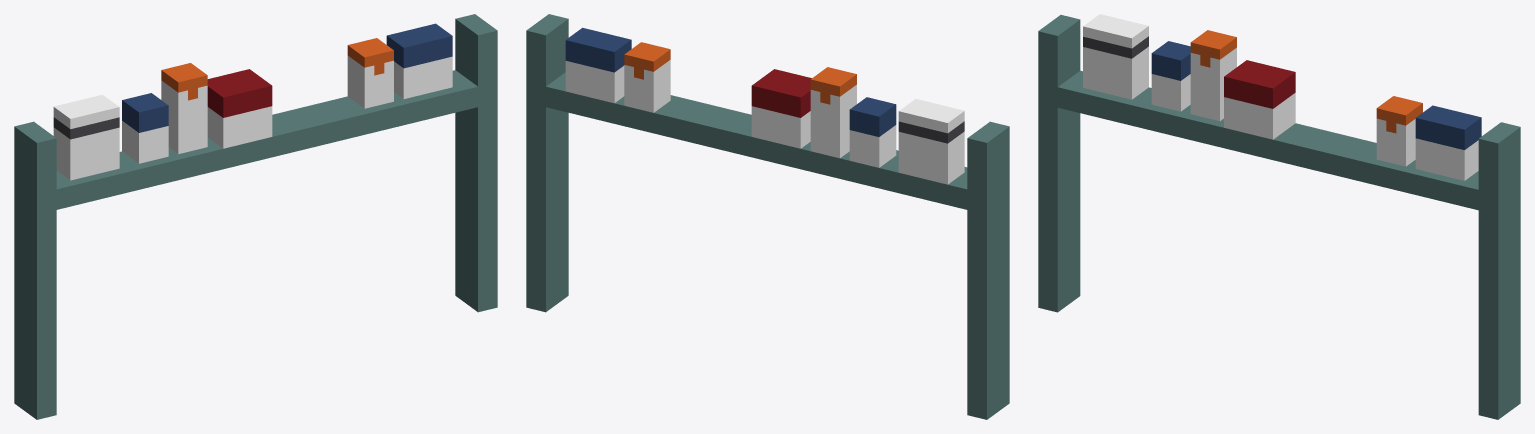
File: StandOnTable-0-StandOnTable.obj
The picture shows the model from 3 angles, left to right: view 1: azimuth 30°, elevation 25°; view 2: azimuth 150°, elevation 25°; view 3: azimuth 330°, elevation 25°; orthographic projection.
Parts seen in each view (by area): view 1: StandOnTable; view 2: StandOnTable; view 3: StandOnTable.
Boxes of the visible parts, x1,y1,x2,y2 form: StandOnTable: [14, 14, 497, 419]; StandOnTable: [526, 14, 1009, 419]; StandOnTable: [1038, 14, 1520, 419].
Bounding box in the file's own units: 4.7 × 2.9 × 0.4.
1 material, 1 textured.
